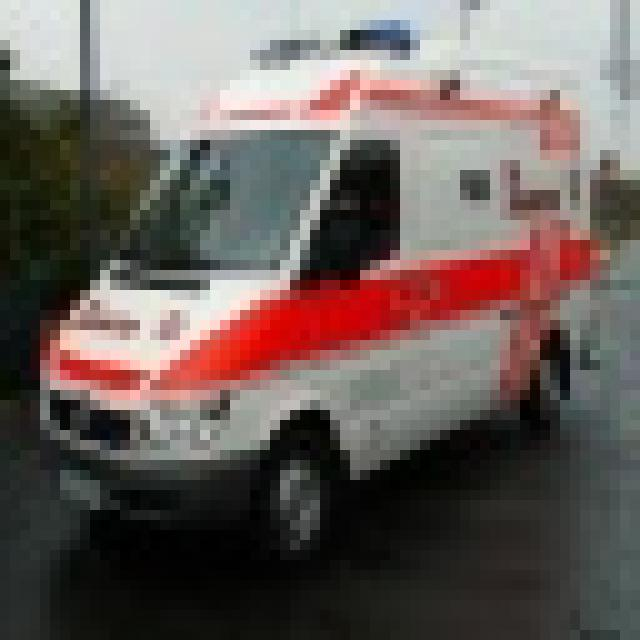Ambulance: (30, 20, 610, 560)
